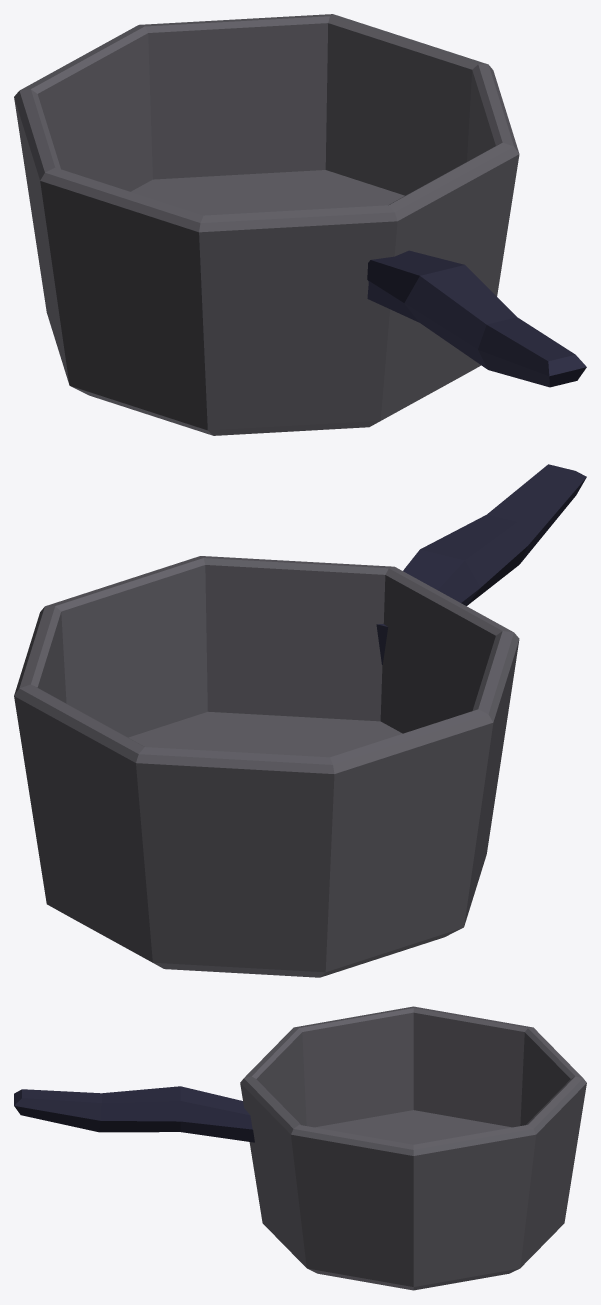
The model's file is SaucePan.fbx.
The picture shows the model from 3 angles, top to bottom: view 1: azimuth 30°, elevation 25°; view 2: azimuth 150°, elevation 25°; view 3: azimuth 270°, elevation 25°; orthographic projection. The views are drawn at different scales.
Visible parts, largest first — view 1: Cylinder, Cube; view 2: Cylinder, Cube; view 3: Cylinder, Cube.
Part boxes in pixels (<box>): Cylinder: <box>14,14,519,435</box>; Cube: <box>367,250,586,387</box>; Cylinder: <box>14,556,519,977</box>; Cube: <box>376,464,586,664</box>; Cylinder: <box>240,1006,586,1290</box>; Cube: <box>14,1086,254,1142</box>.
Size of the model in its own units: 99.71 by 49.67 by 165.
